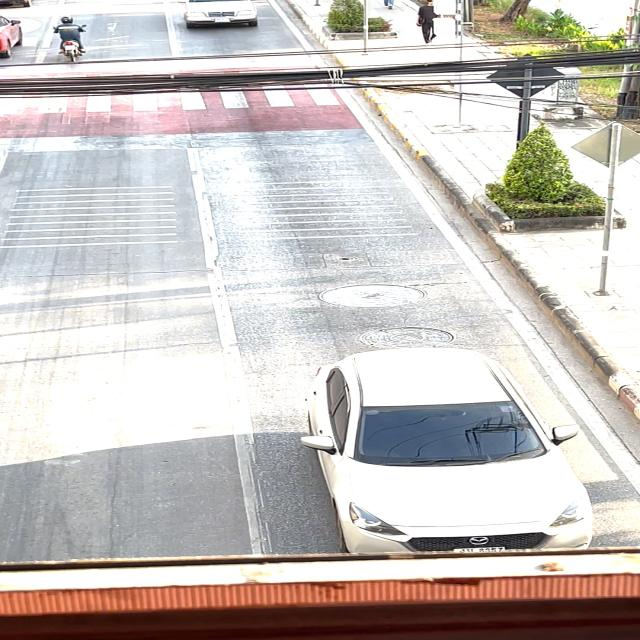car: (249, 335, 640, 551), (172, 0, 260, 33)
